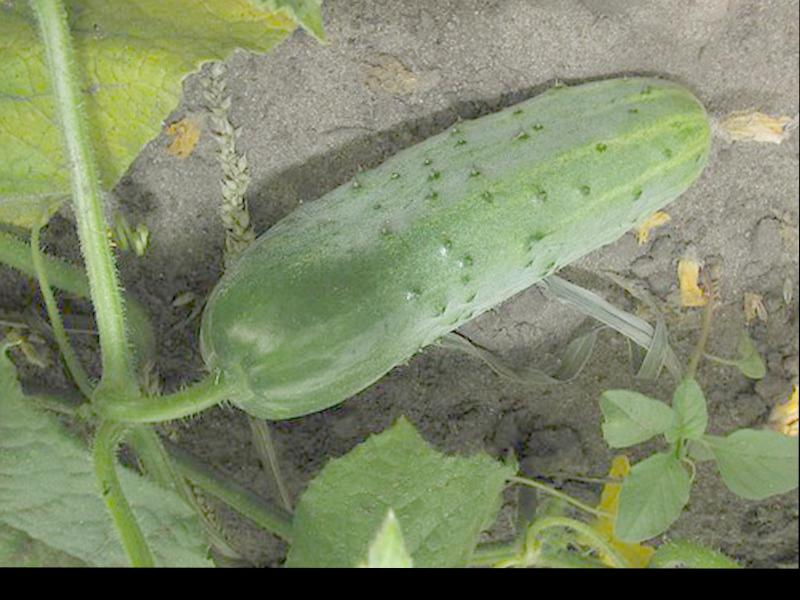Cucumber: (200, 72, 791, 419)
